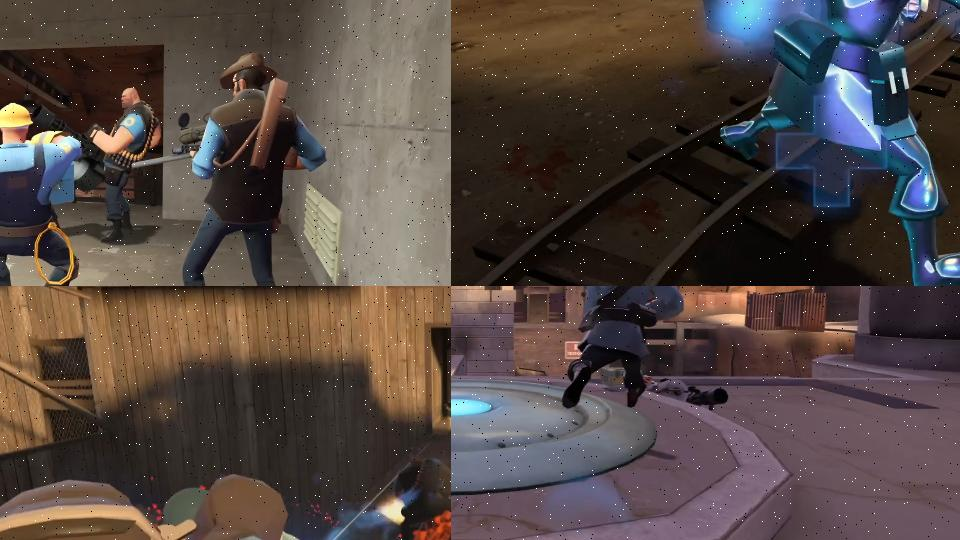Enemy: (719, 0, 960, 286), (155, 53, 326, 286), (0, 475, 352, 540), (34, 86, 164, 247), (563, 286, 691, 418), (0, 101, 83, 286), (397, 453, 451, 540)
